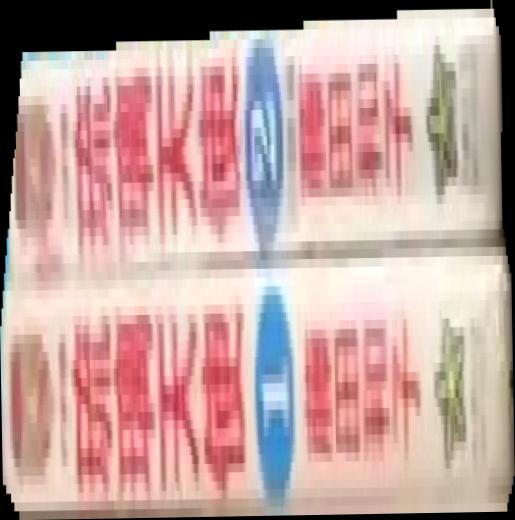flat: (1, 1, 515, 520)
